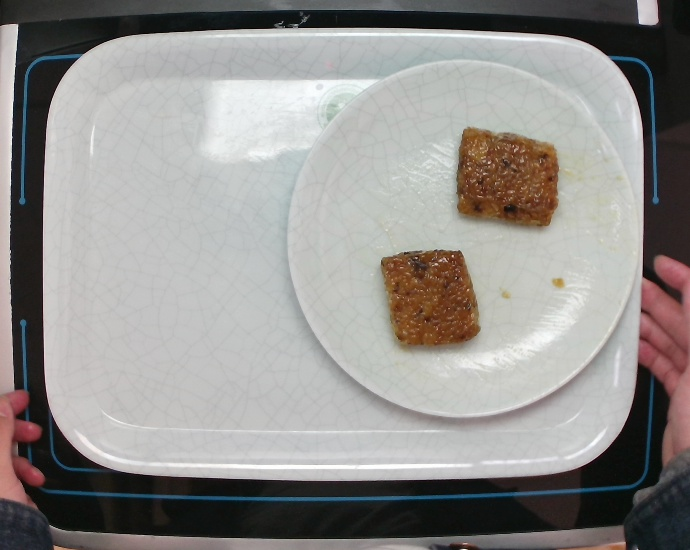JYsf-Da_Yuan_Pan: (286, 59, 643, 418)
